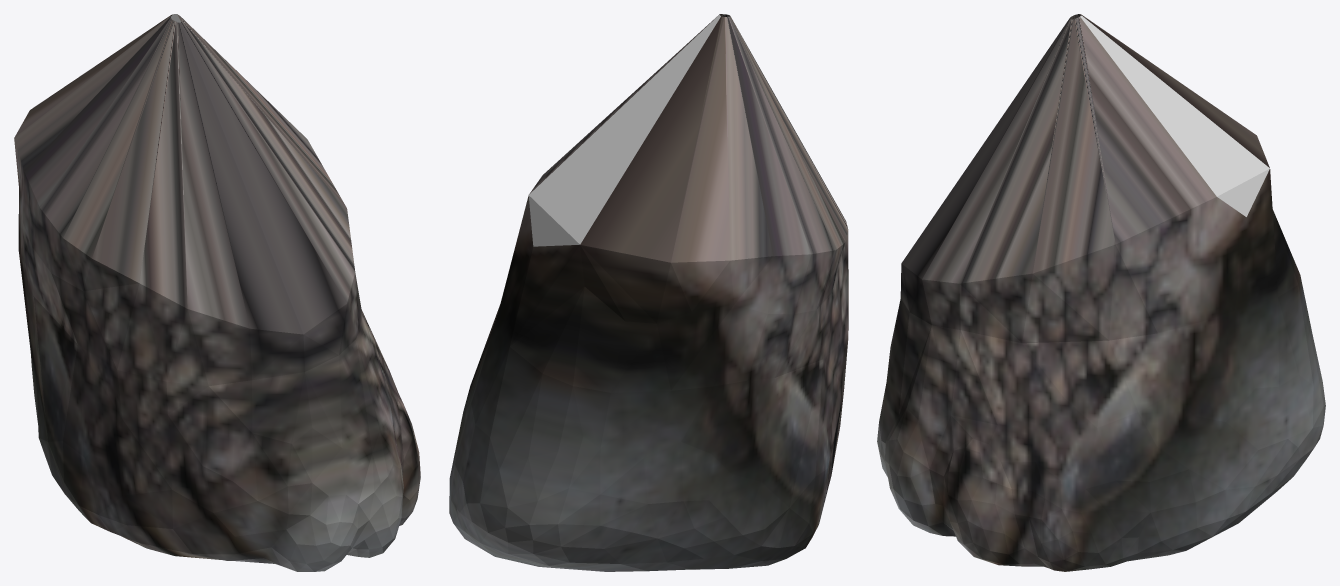
Rendered from Tortoise_RightRearleg_new3.dae.
The picture shows the model from 3 angles, left to right: view 1: azimuth 30°, elevation 25°; view 2: azimuth 150°, elevation 25°; view 3: azimuth 270°, elevation 25°; orthographic projection. The views are drawn at different scales.
Parts seen in each view (by area): view 1: tortoise_002; view 2: tortoise_002; view 3: tortoise_002.
Boxes of the visible parts, box(x1,y1,x2,y2) form: tortoise_002: box(14, 14, 420, 571); tortoise_002: box(449, 14, 848, 571); tortoise_002: box(877, 14, 1325, 571).
Size of the model in its own units: 2.87 by 3.75 by 4.36.
2 materials, 1 textured.
